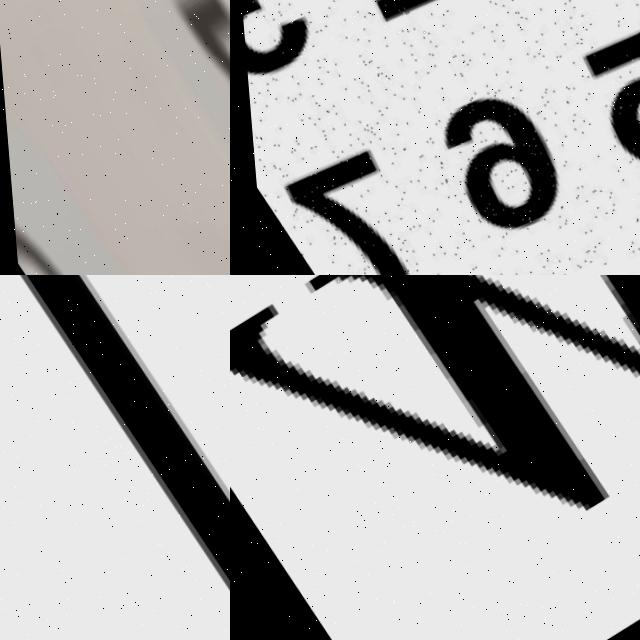0: (4, 154, 230, 275)
2: (297, 0, 493, 41)
3: (232, 0, 338, 99)
5: (548, 5, 640, 193)
6: (398, 65, 592, 258)
7: (251, 126, 441, 275), (137, 0, 230, 258)
L: (0, 275, 230, 640)
W: (230, 275, 640, 640)
